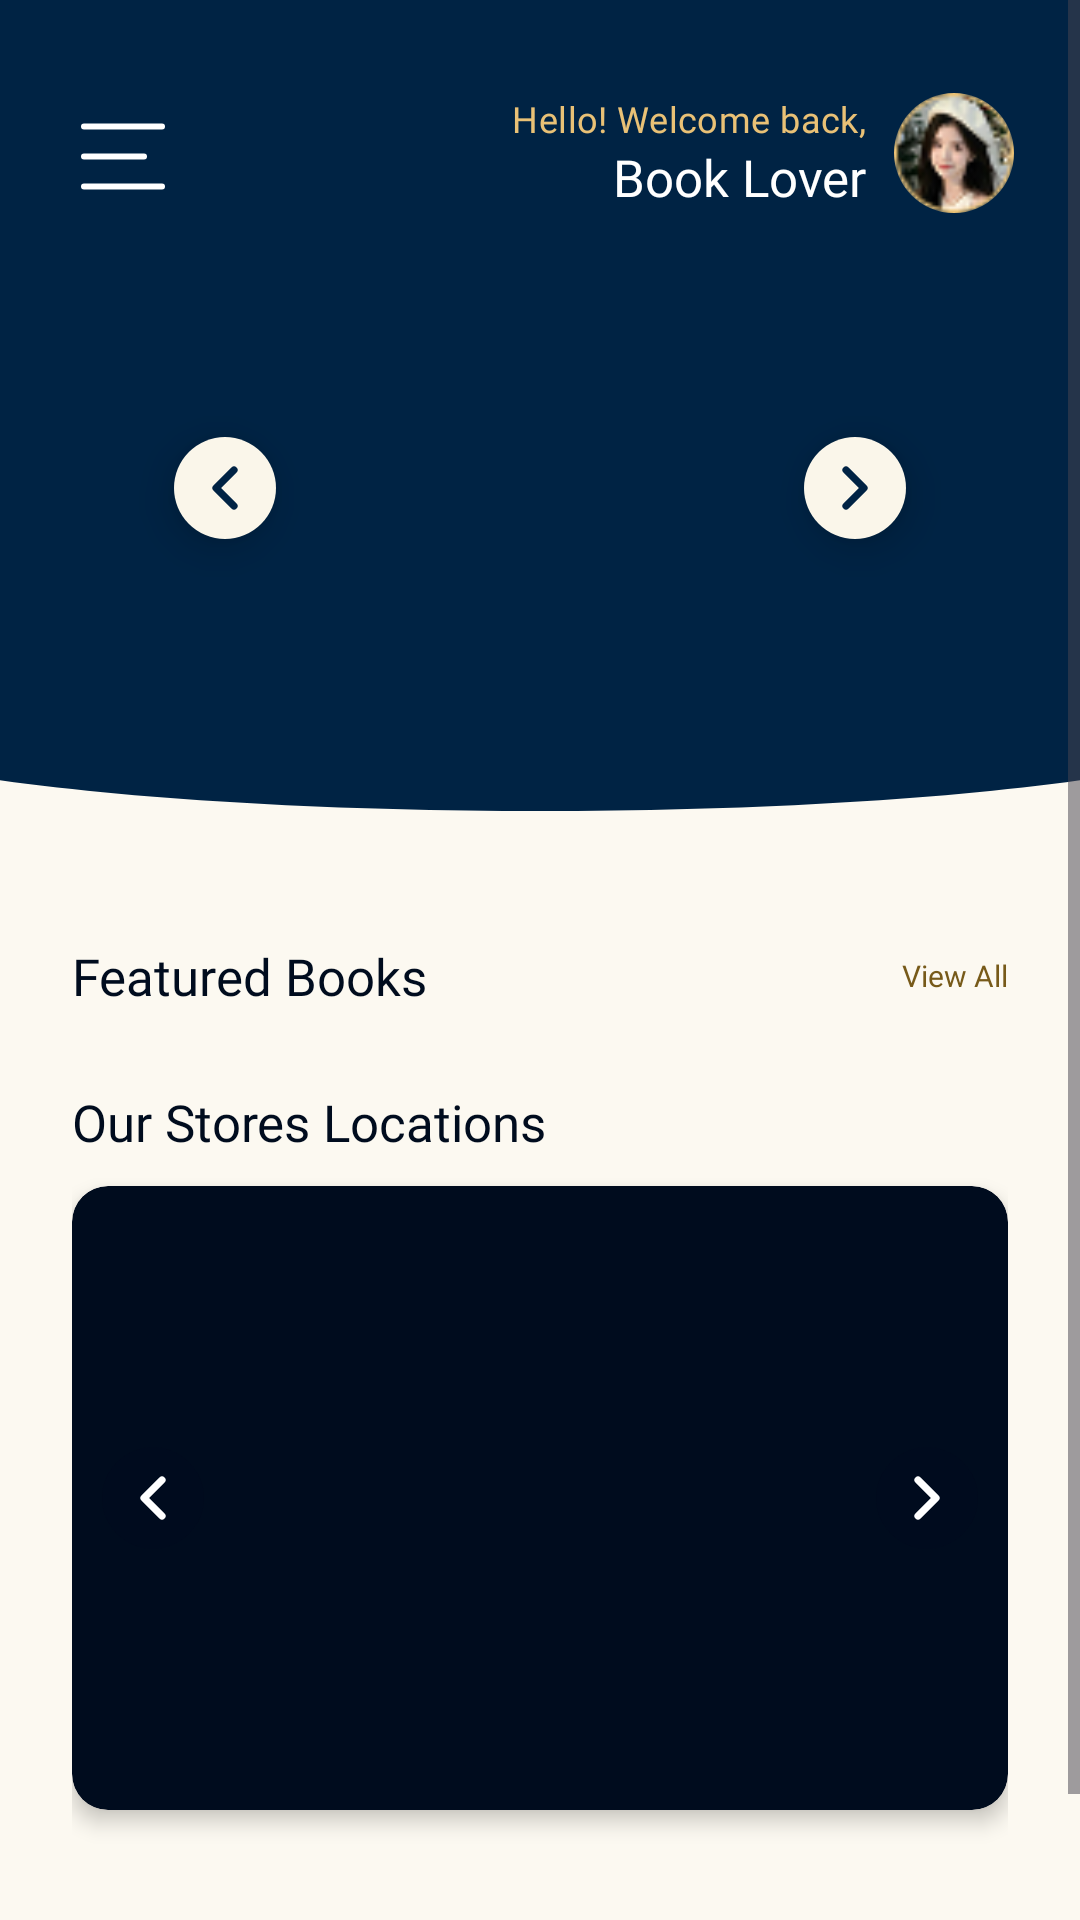

Where icons sit on this 1080w x 1920h app screen, as region(x1, y1, x2, y2):
Next featured book: region(804, 437, 906, 539)
Next store: region(914, 1476, 940, 1520)
Open menu: region(81, 123, 165, 190)
Previous featured book: region(174, 437, 276, 539)
Previous store: region(140, 1476, 166, 1520)
Profile: region(894, 93, 1014, 213)
